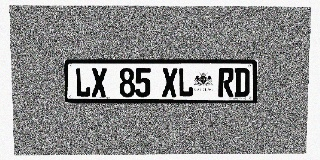5: (135, 68, 151, 97)
8: (119, 68, 135, 97)
D: (234, 68, 250, 97)
L: (75, 68, 91, 97), (178, 68, 193, 97)
R: (218, 68, 234, 97)
X: (91, 68, 107, 97), (162, 68, 177, 97)
